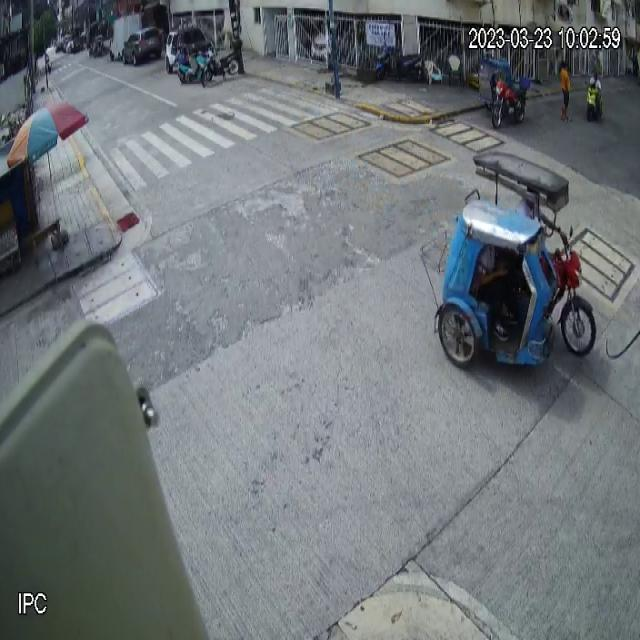Tricycle: (422, 147, 598, 372), (478, 55, 530, 128)
